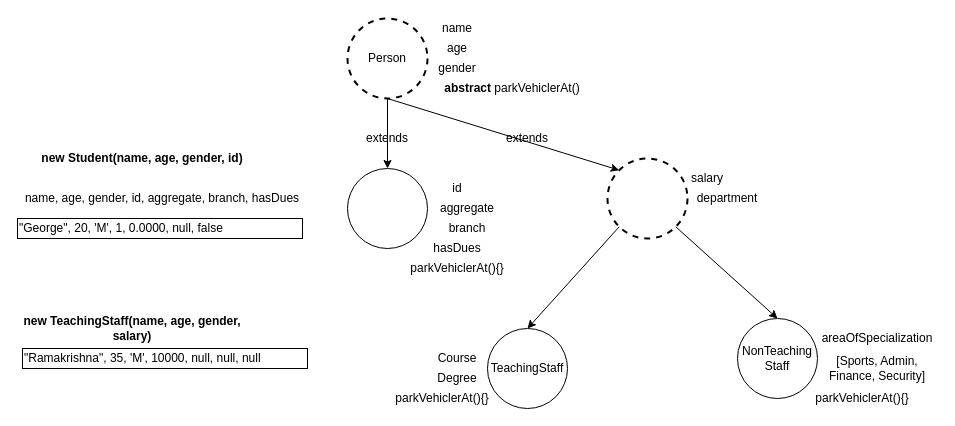
The diagram is 955 pixels wide and 426 high, and some of its shapes have lost their labels. Each missing label, with the box of its shape:
Staff: (606, 157, 688, 239)
Student: (346, 168, 428, 248)
